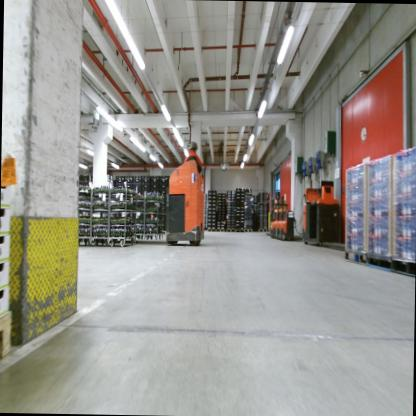pallet: (255, 227, 268, 234), (235, 227, 245, 234), (225, 227, 235, 233), (216, 227, 226, 233), (206, 227, 216, 233), (245, 227, 253, 233)
pallet_truck: (163, 140, 206, 253), (302, 181, 347, 253), (280, 193, 304, 239), (275, 194, 283, 239), (269, 195, 276, 238)
